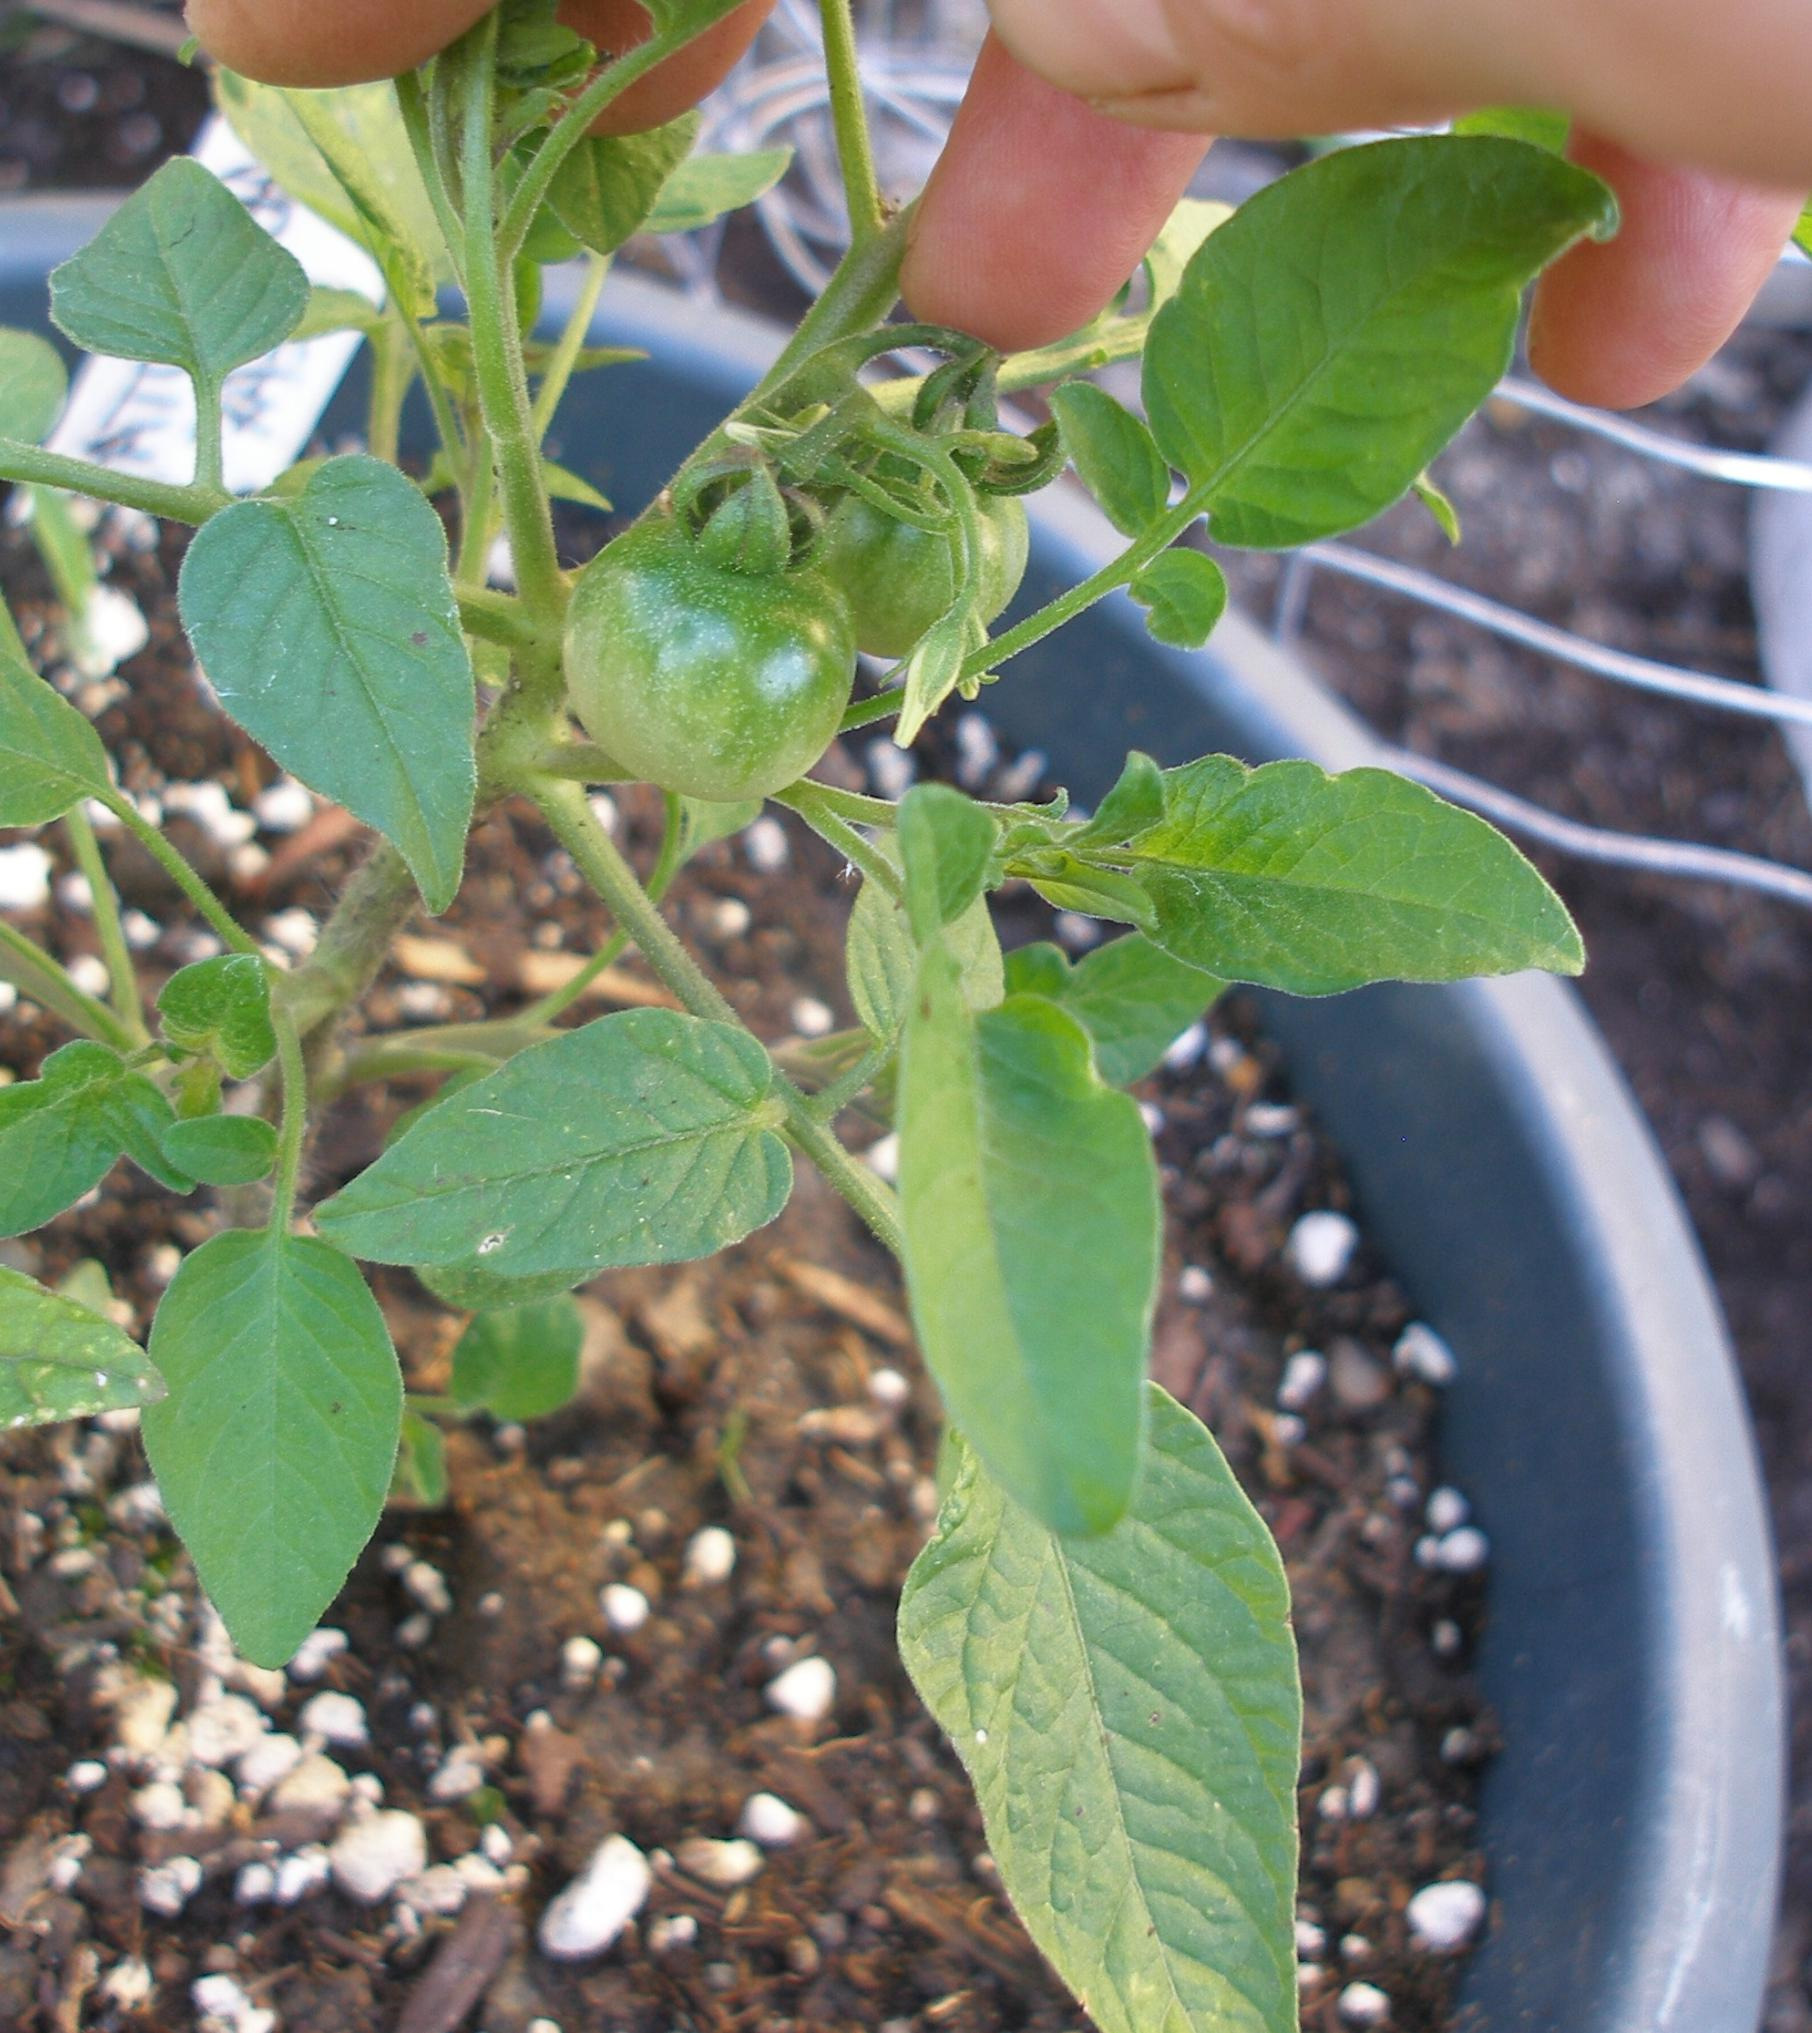Tomato leaf: (777, 1338, 1389, 2033), (1088, 86, 1634, 639), (303, 976, 847, 1358), (1181, 661, 1665, 1072), (103, 1197, 443, 1716), (126, 450, 549, 866), (901, 985, 1174, 1585), (0, 1001, 238, 1268)
